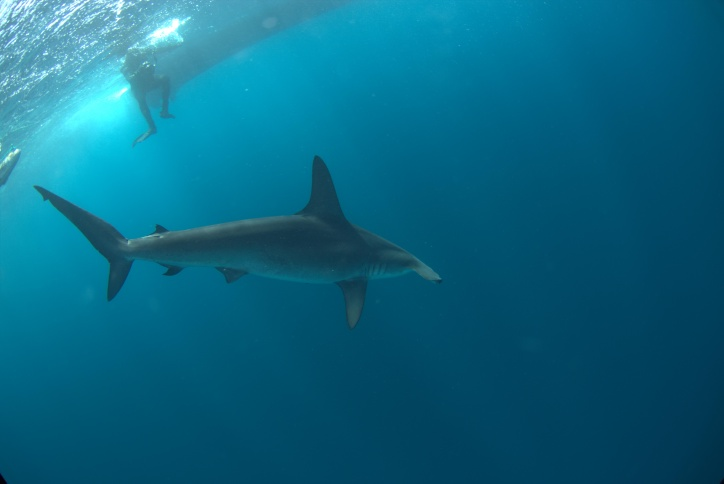Hammer: (22, 138, 465, 368)
